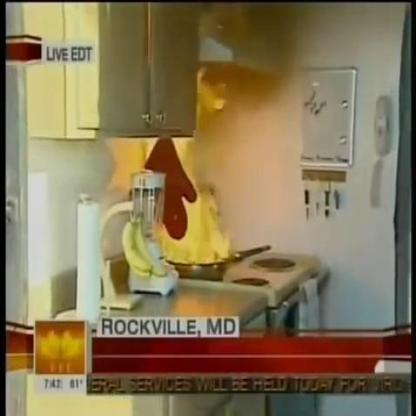fire: (148, 64, 248, 261)
